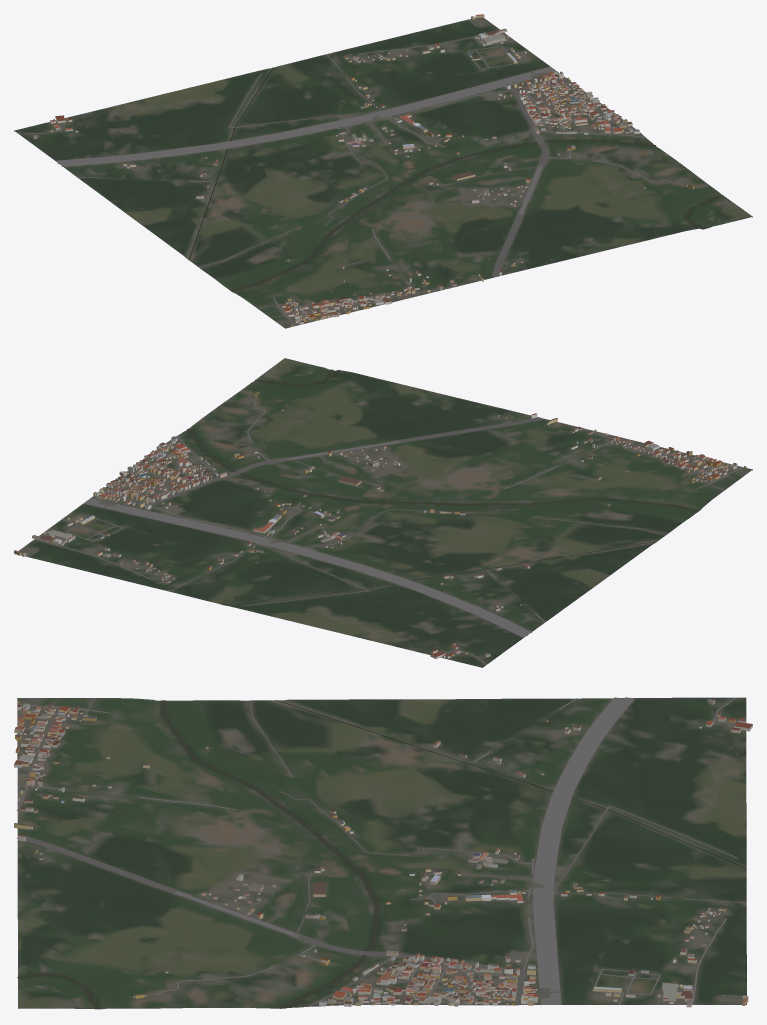
The picture shows the model from 3 angles, top to bottom: view 1: azimuth 30°, elevation 25°; view 2: azimuth 150°, elevation 25°; view 3: azimuth 270°, elevation 25°; orthographic projection. The views are drawn at different scales.
Visible parts, largest first — view 1: ground, buildings, roads, water; view 2: ground, buildings, roads, water; view 3: ground, buildings, roads, water.
Part boxes in pixels (x1,y1,x2,y2): ground: (14,17,752,328); buildings: (33,14,694,326); roads: (18,19,695,326); water: (189,67,723,291); ground: (14,358,752,667); buildings: (14,391,746,658); roads: (27,370,743,664); water: (187,369,698,604); ground: (17,697,746,1009); buildings: (14,699,752,1007); roads: (17,697,746,1006); water: (17,700,746,1008).
Bounding box in the file's own units: 1412 × 24.15 × 1421.
